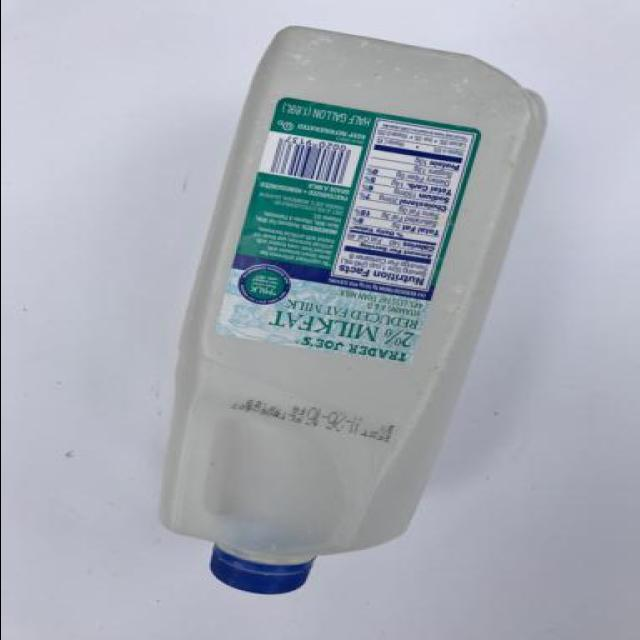HDPEM: (148, 22, 548, 598)
